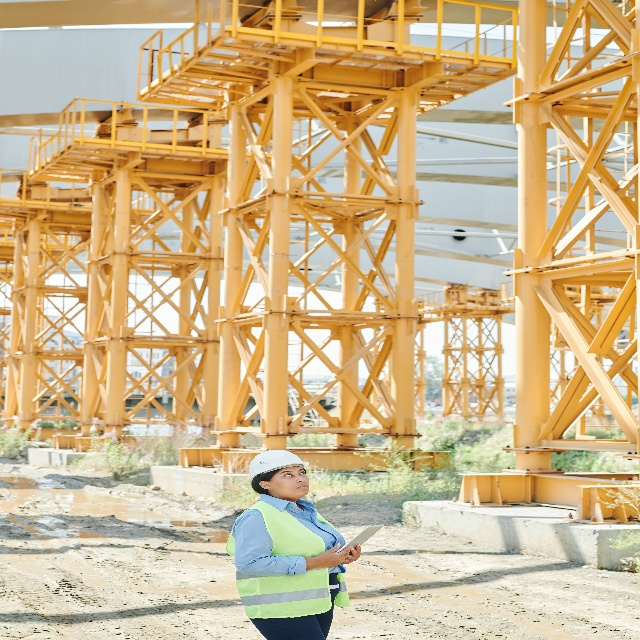Sin_guantes: (316, 540, 352, 568), (343, 541, 361, 564)
